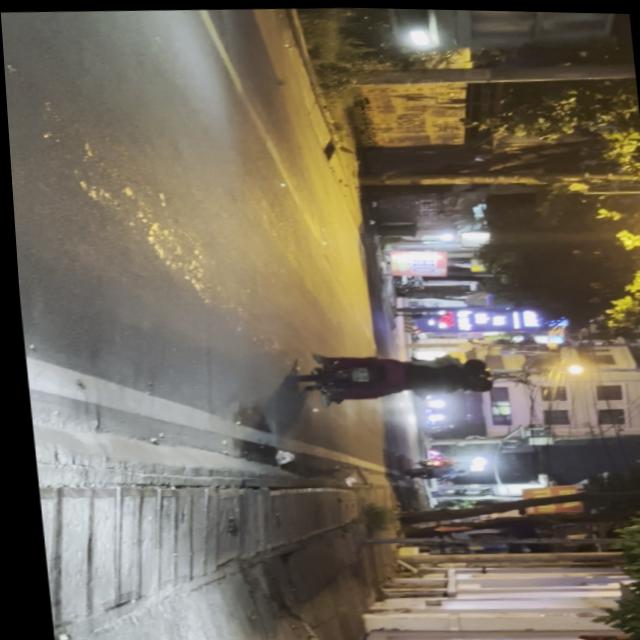licenseplate: (283, 340, 498, 409)
nohelmet: (348, 364, 365, 379)
